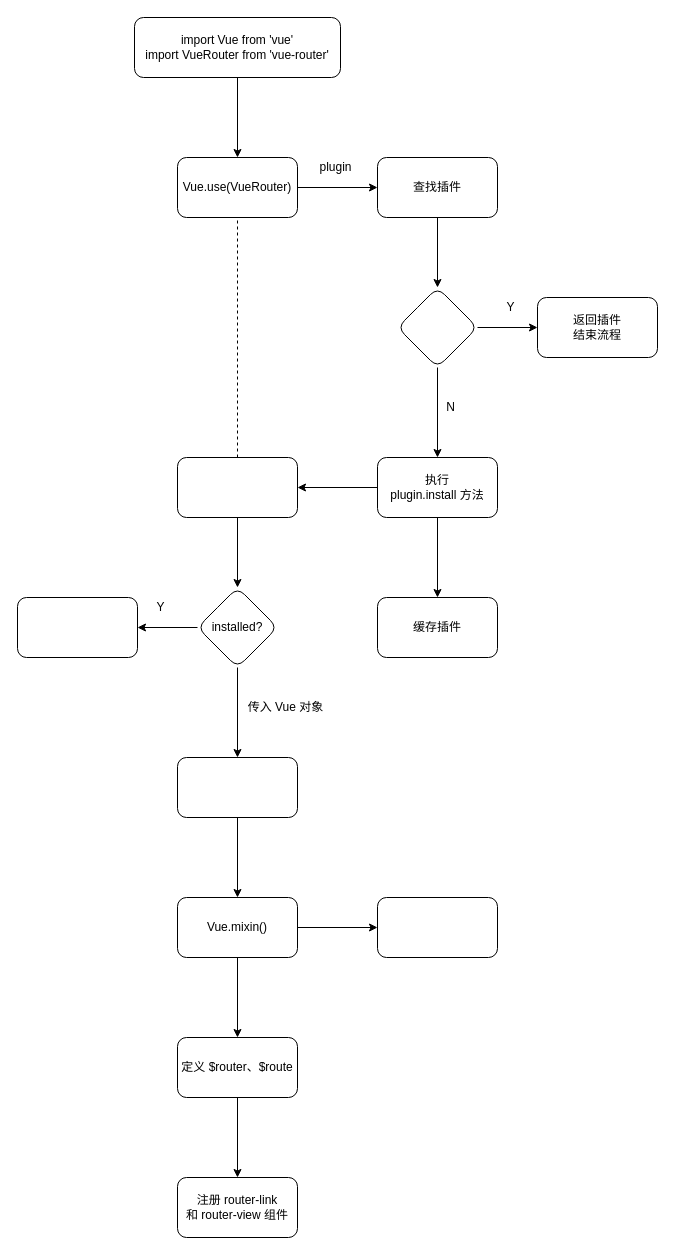
Some shapes in this 675 by 1255 pixel diagram are drawn without their labels. The box of each missing label's shape, as (x1, y1, x2, y2) in pixels:
install 安装 router: (176, 456, 298, 518)
全局保存 Vue 对象 避免引入 Vue 增加包体积: (176, 756, 298, 818)
往 Vue 构造函数中 options 混入路由钩子 beforeCreate() destroyed(): (376, 896, 498, 958)
是否找到插件?: (396, 286, 478, 368)
退出安装: (16, 596, 138, 658)
